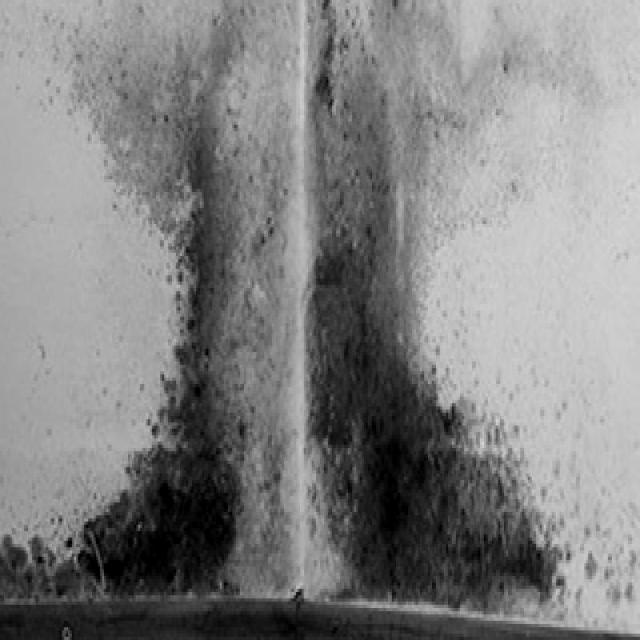stain marks: (4, 0, 589, 623)
